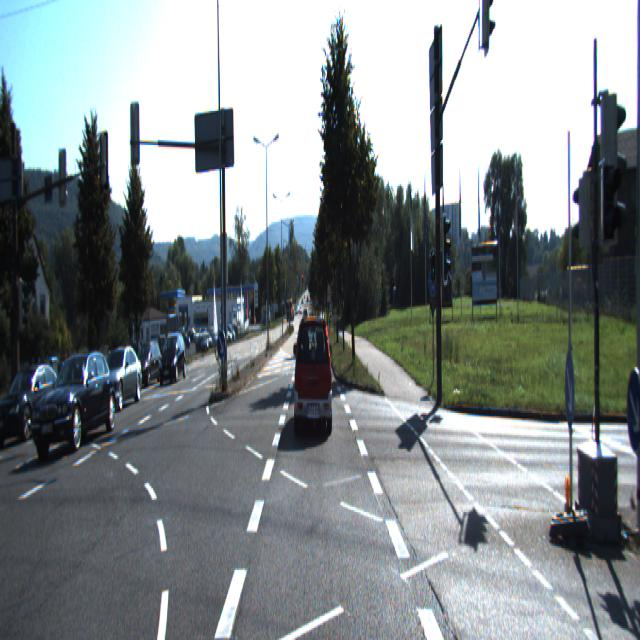Car: (30, 351, 120, 462), (0, 356, 69, 444), (294, 312, 332, 432), (158, 333, 186, 387)
